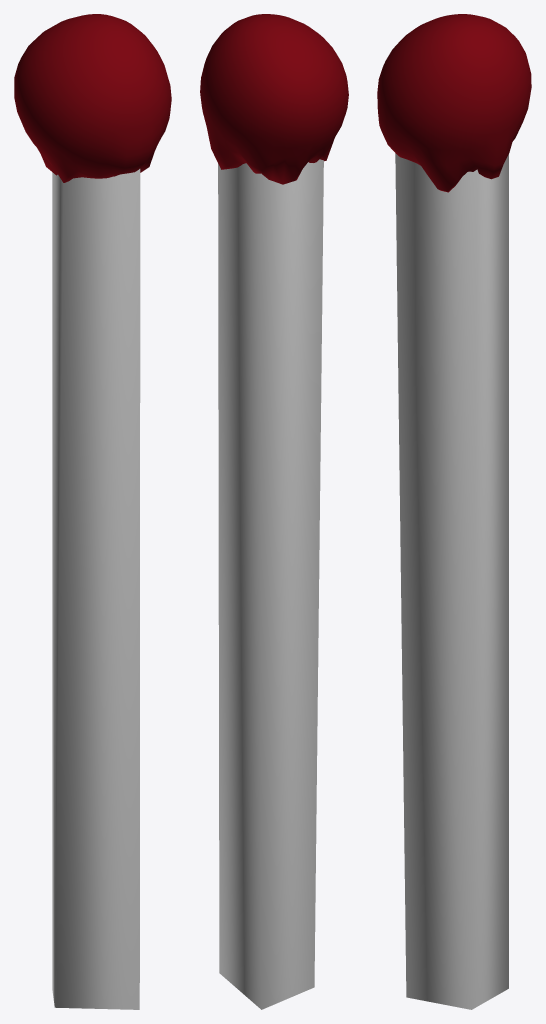
The model's file is Match Stick.glb.
The picture shows the model from 3 angles, left to right: view 1: azimuth 30°, elevation 25°; view 2: azimuth 150°, elevation 25°; view 3: azimuth 270°, elevation 25°; orthographic projection.
Parts seen in each view (by area): view 1: Cube, Sphere; view 2: Cube, Sphere; view 3: Cube, Sphere.
Part boxes in pixels (x1,y1,x2,y2): Cube: (52,169,140,1009); Sphere: (14,14,171,182); Cube: (218,159,323,1009); Sphere: (200,14,348,184); Cube: (395,153,508,1009); Sphere: (377,14,531,192).
Bounding box in the file's own units: 0.5157 × 3.66 × 0.5231.
